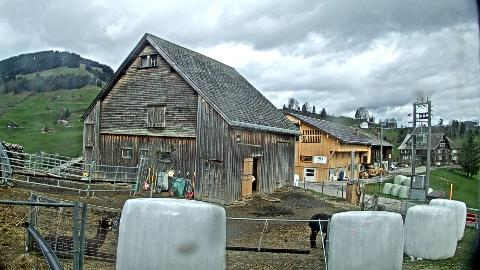car: (390, 162, 396, 172)
sheep: (36, 213, 115, 257), (309, 212, 333, 248), (252, 175, 256, 183)
